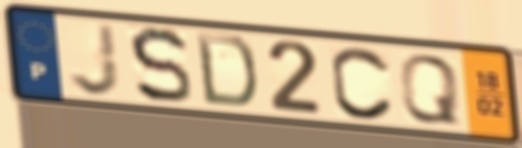2: (264, 38, 326, 119)
C: (328, 43, 397, 123)
D: (192, 29, 261, 112)
J: (66, 20, 124, 99)
Q: (397, 51, 463, 126)
S: (126, 24, 195, 107)
